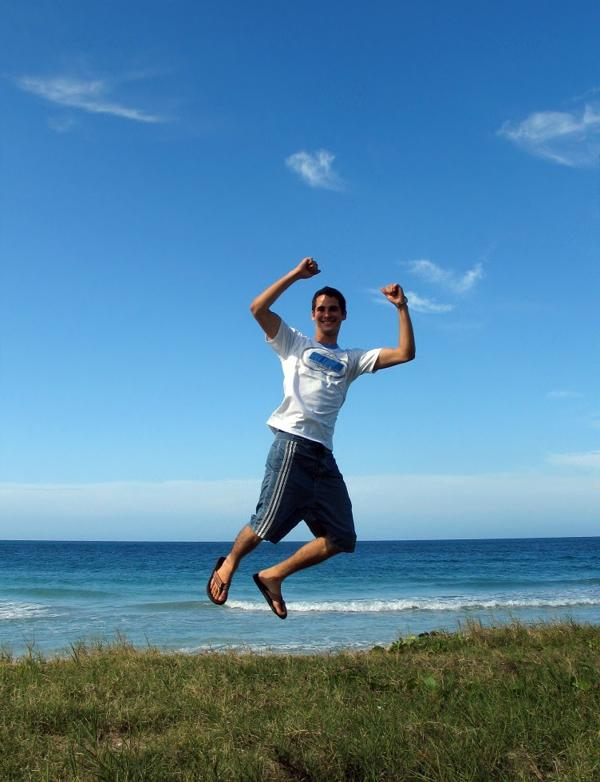person: (204, 255, 416, 621)
